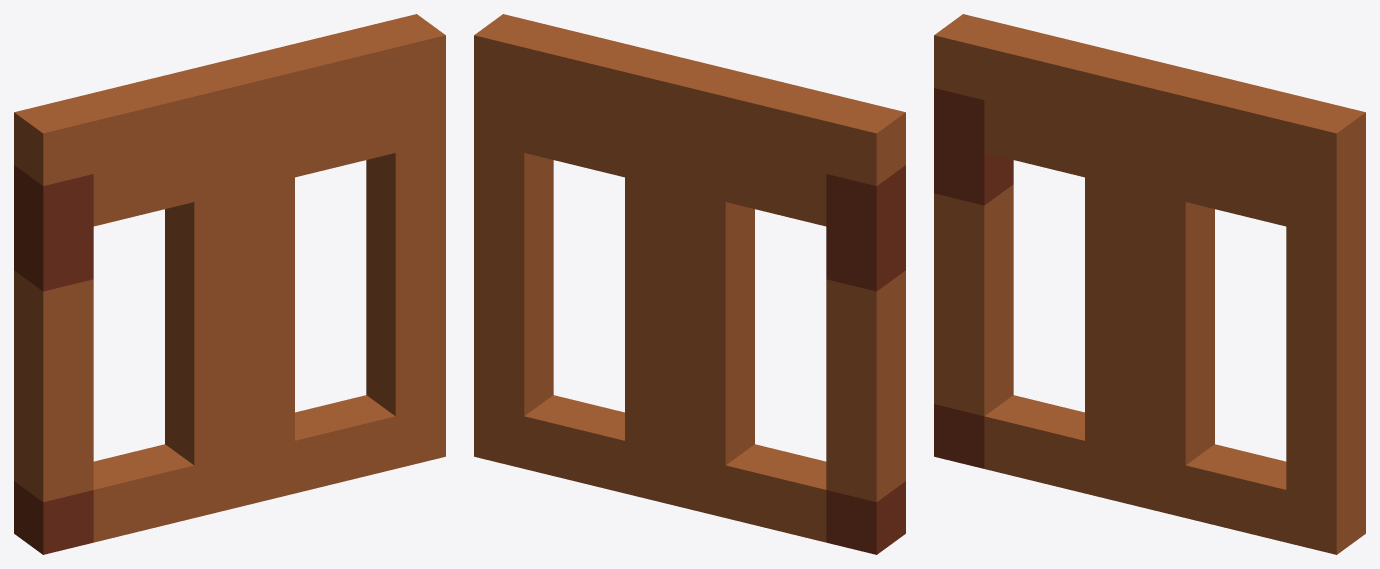
File: _Plum Door Top.glb
The picture shows the model from 3 angles, left to right: view 1: azimuth 30°, elevation 25°; view 2: azimuth 150°, elevation 25°; view 3: azimuth 330°, elevation 25°; orthographic projection.
Visible parts, largest first — view 1: generated(Clone); view 2: generated(Clone); view 3: generated(Clone).
Boxes of the visible parts, box(x1,y1,x2,y2) form: generated(Clone): box(14, 14, 445, 554); generated(Clone): box(474, 14, 905, 554); generated(Clone): box(934, 14, 1365, 554).
Bounding box in the file's own units: 8 × 8 × 1.
Materials: 1 (1 with a texture image).
